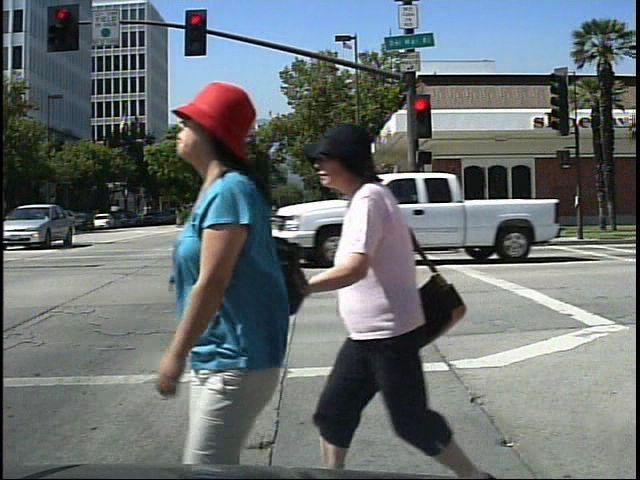person: (101, 65, 316, 471), (312, 115, 489, 479)
